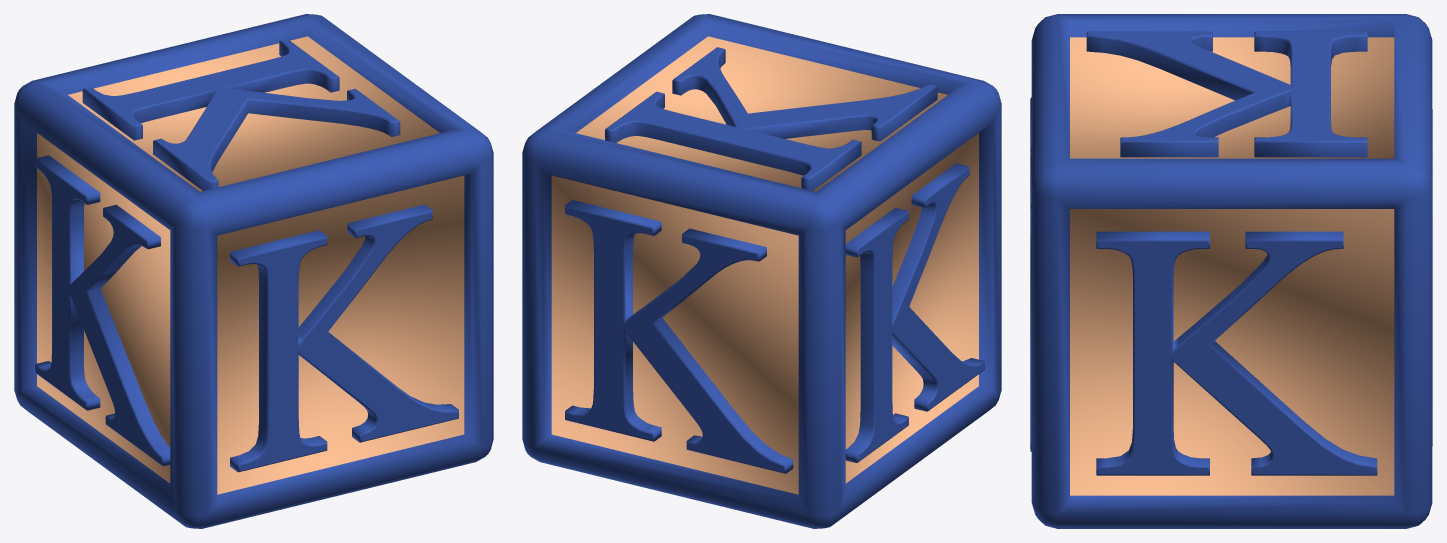
File: CubeK.fbx
3 views of the same model, side by side, from view 1: azimuth 30°, elevation 25°; view 2: azimuth 150°, elevation 25°; view 3: azimuth 270°, elevation 25° (orthographic). The views are drawn at different scales.
Parts seen in each view (by area): view 1: Msh_CubeK; view 2: Msh_CubeK; view 3: Msh_CubeK.
Part boxes in pixels (bbox=[...]): Msh_CubeK: bbox=[14, 14, 493, 528]; Msh_CubeK: bbox=[522, 14, 1001, 528]; Msh_CubeK: bbox=[1030, 14, 1432, 528].
Size of the model in its own units: 100 by 100 by 100.
